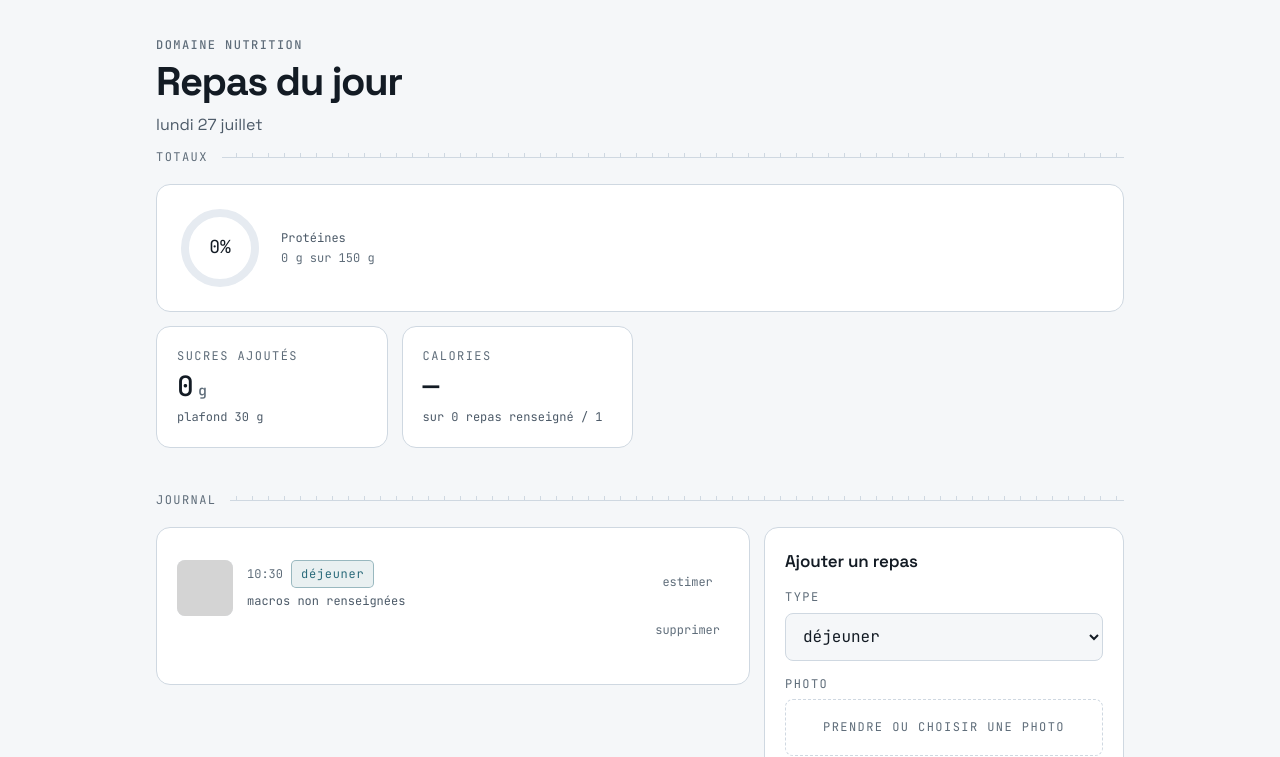
Test case: estimation d’un repas déjà au journal › n’écrit rien tant que la proposition n’est pas validée
Click the button with aria-label "Estimer les macros du repas" at point(688, 582), box [646,560,729,604]
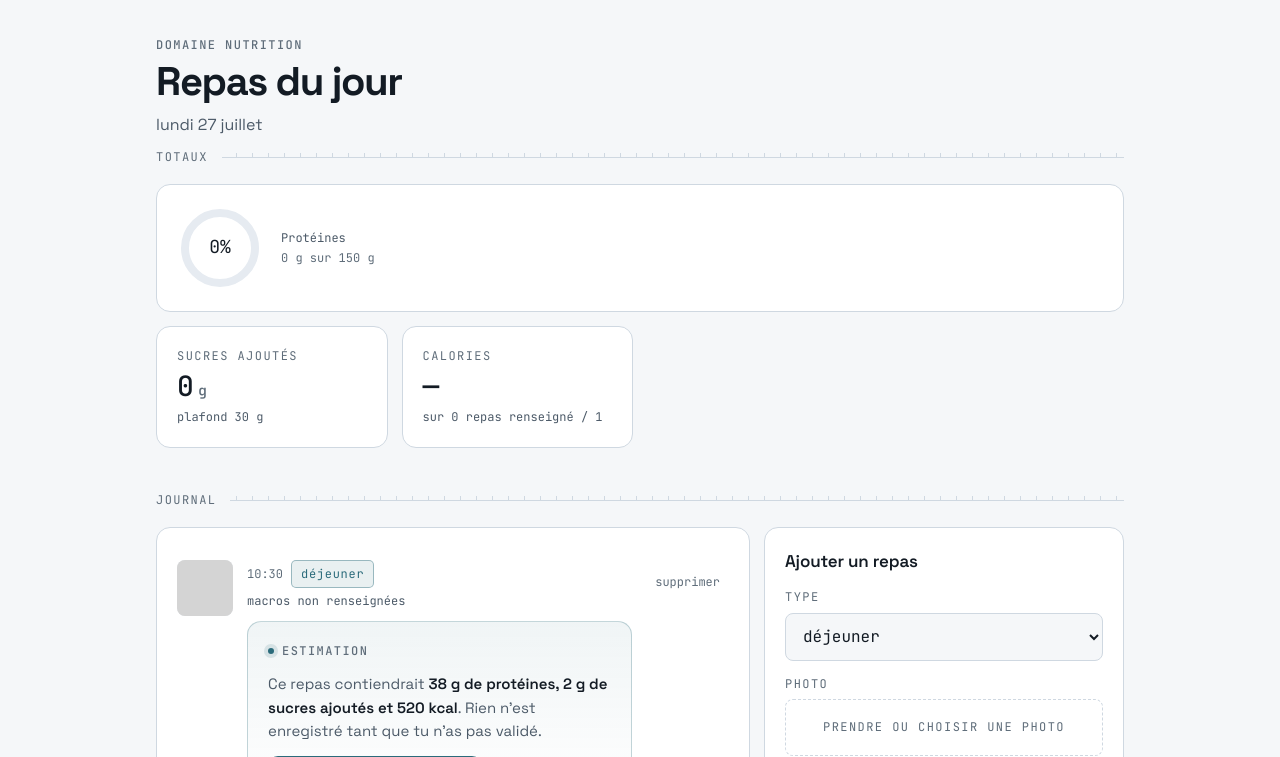
Expected: the text "38 g de protéines, 2 g de sucres ajoutés et 520 kcal" is shown, [268,674,607,717]
